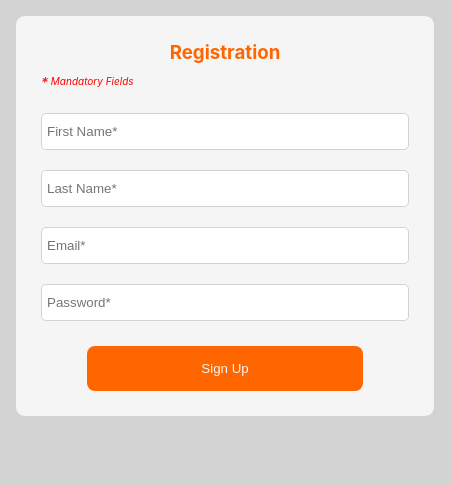
Test: Registration component › validations for sign up › should validate password less than 8 characters
Step 1. Type "PASS" into the password field with test id "password-field" → (225, 303), box [41, 284, 409, 321]
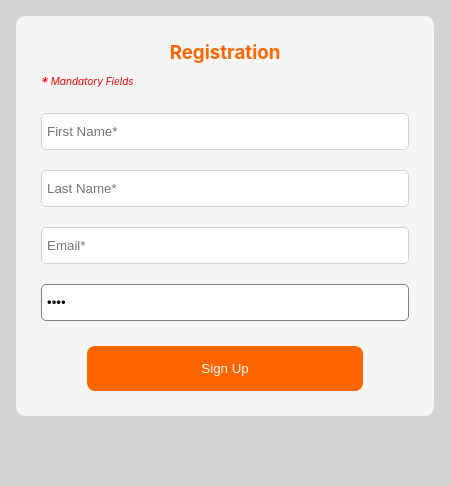
Step 2. Press Tab
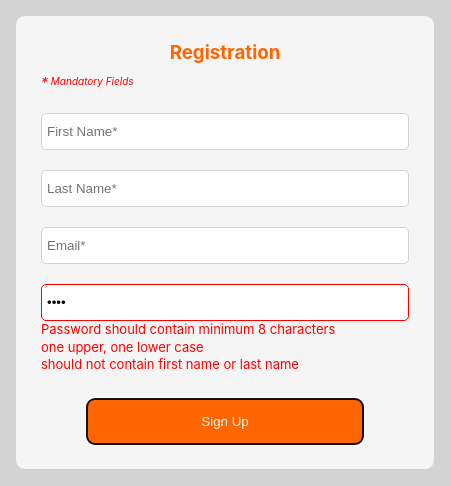
Now the text "Password should contain minimum 8 characters" is shown, box [41, 321, 335, 337]
